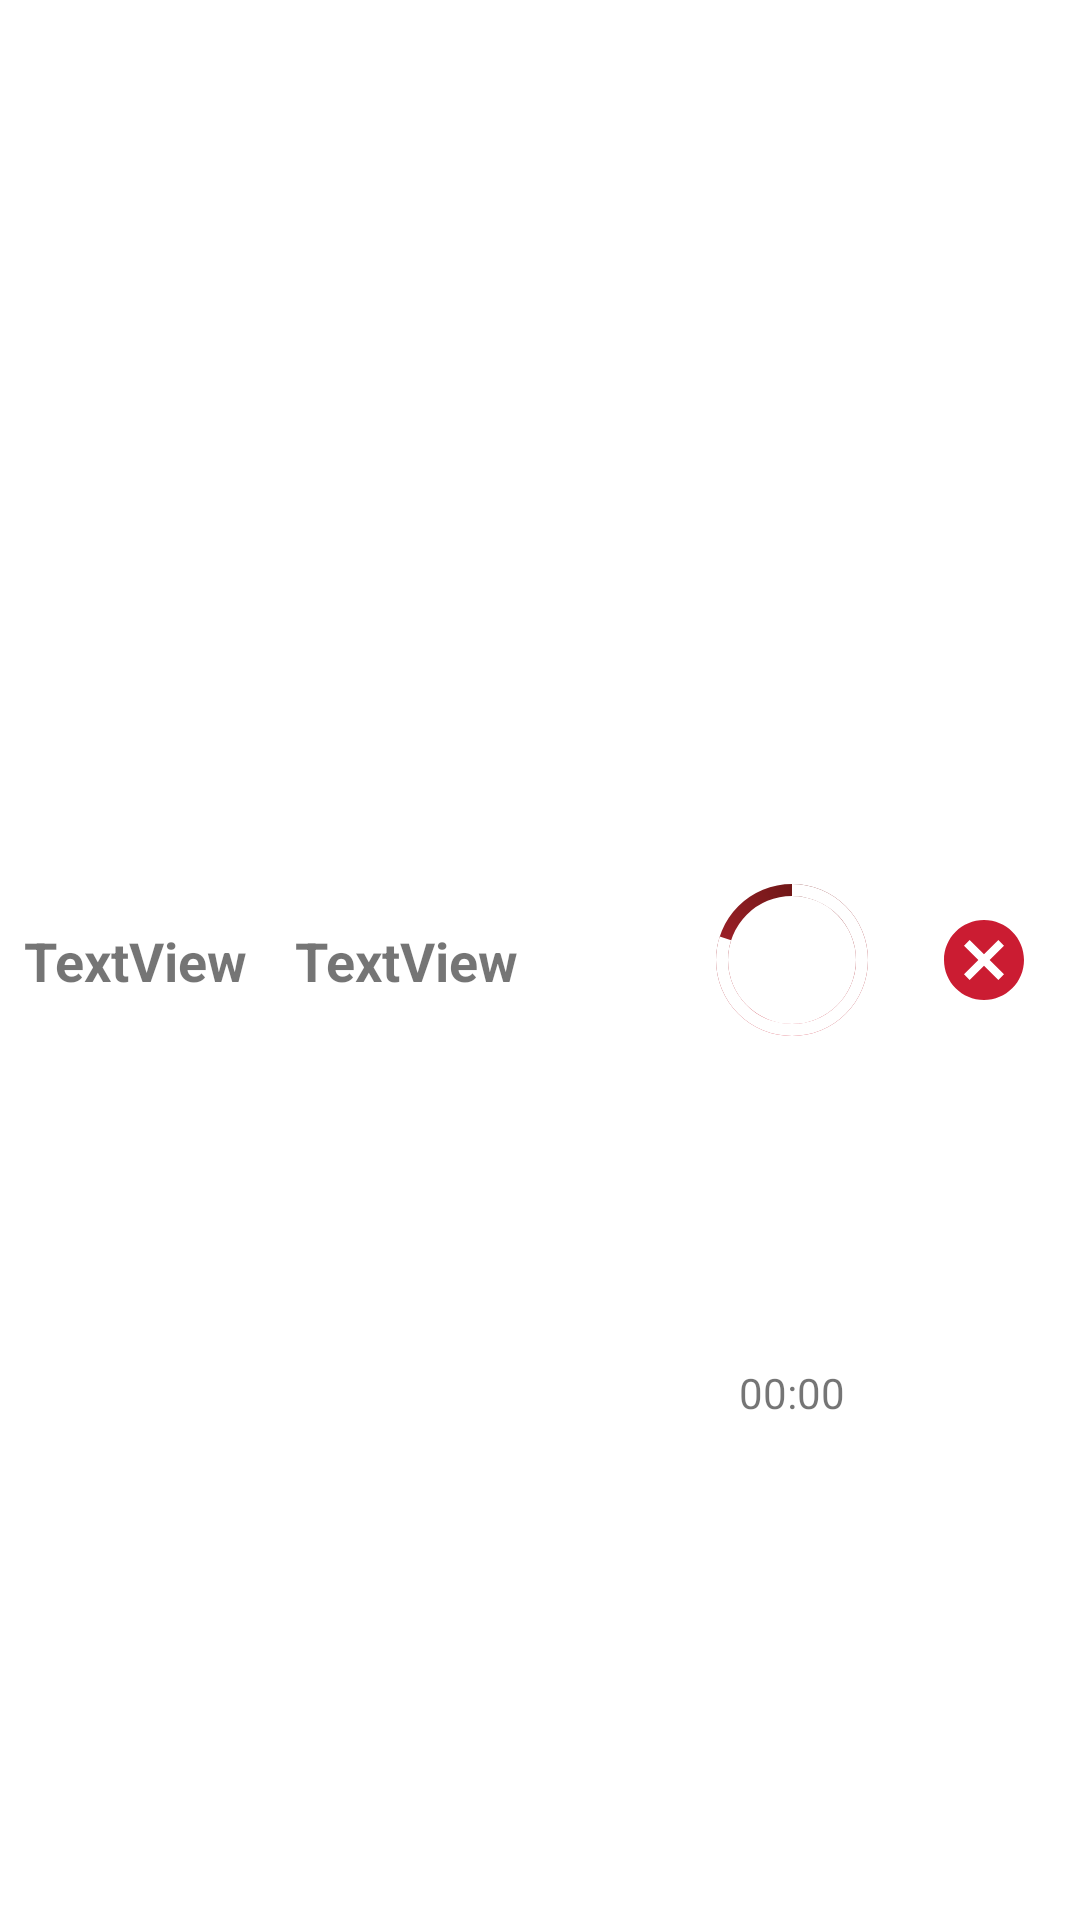

Icon bounding boxes for this 1080 x 1920 phone screenshot, format (x1, y1, x2, y2):
cancel: (944, 920, 1024, 1000)
